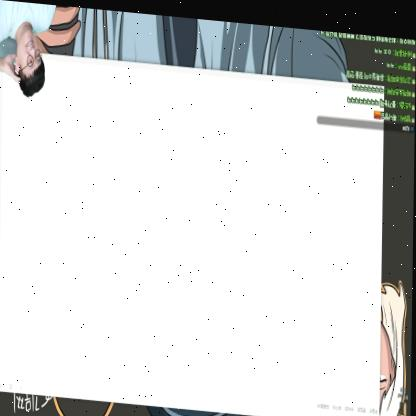streamer: (0, 0, 60, 100)
